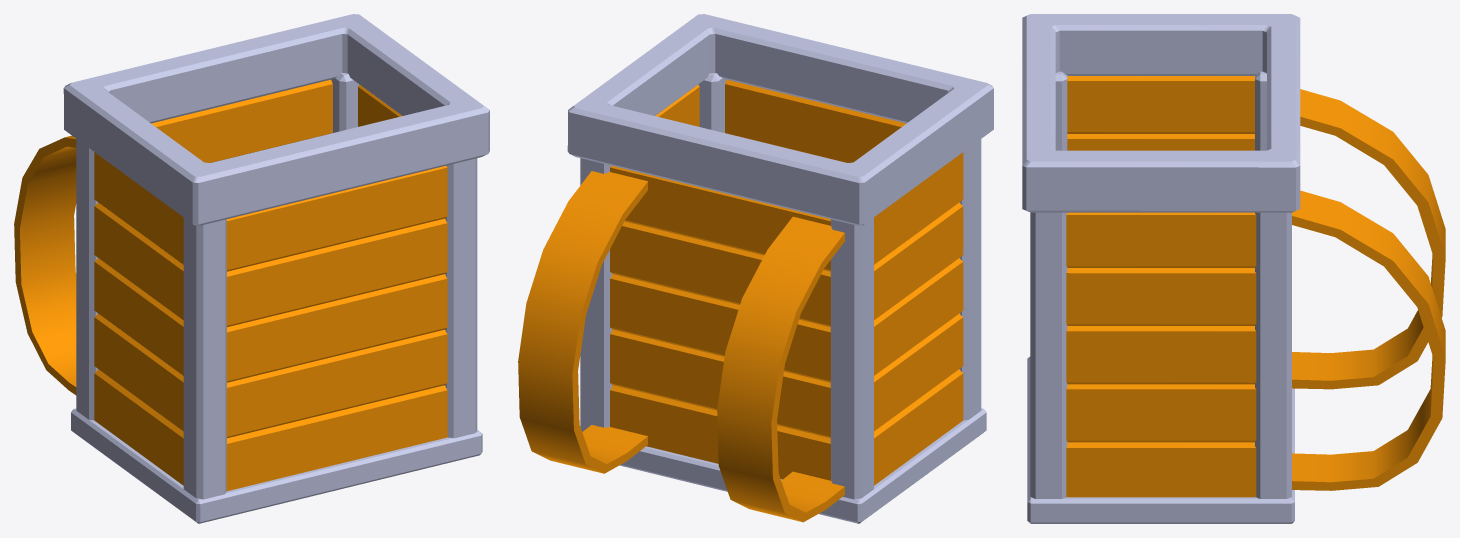
The picture shows the model from 3 angles, left to right: view 1: azimuth 30°, elevation 25°; view 2: azimuth 150°, elevation 25°; view 3: azimuth 270°, elevation 25°; orthographic projection. The views are drawn at different scales.
Parts seen in each view (by area): view 1: Balo_5; view 2: Balo_5; view 3: Balo_5.
Part boxes in pixels (box(x1,y1,x2,y2)): Balo_5: box(14, 14, 489, 523); Balo_5: box(518, 14, 993, 523); Balo_5: box(1022, 14, 1445, 523).
Size of the model in its own units: 109 by 122 by 129.
